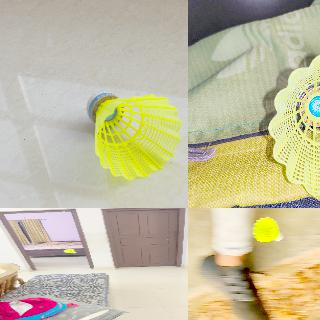shuttlecock: (86, 91, 180, 179), (265, 50, 319, 194), (251, 215, 283, 242), (64, 248, 76, 253)
